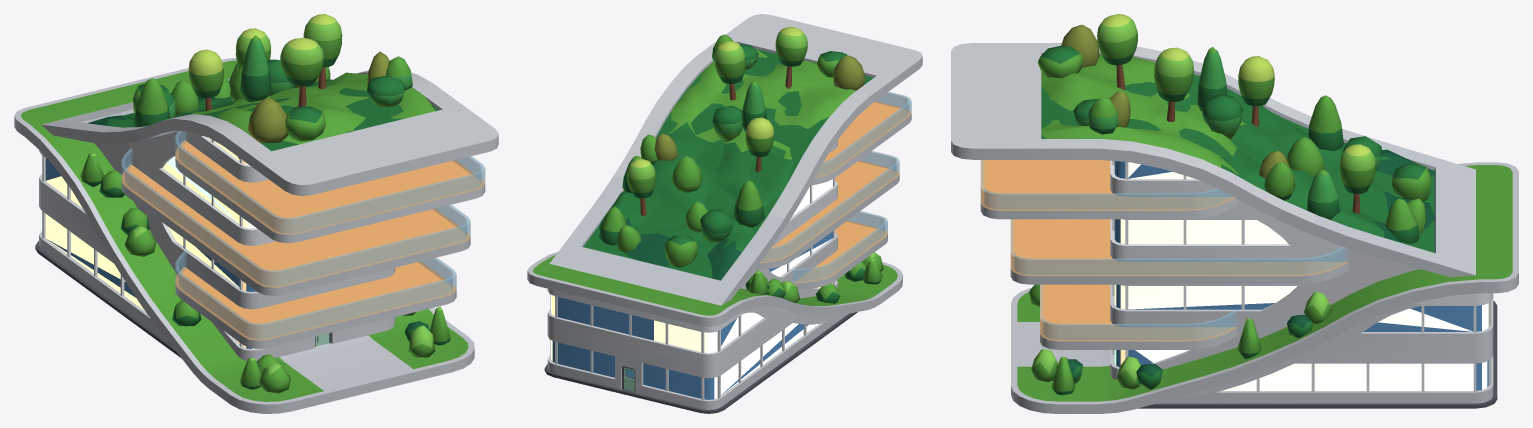
File: predio_eco_terracos_pacote.glb
The picture shows the model from 3 angles, left to right: view 1: azimuth 30°, elevation 25°; view 2: azimuth 150°, elevation 25°; view 3: azimuth 270°, elevation 25°; orthographic projection. The views are drawn at different scales.
Parts seen in each view (by area): view 1: predio_eco_terracos_pacote; view 2: predio_eco_terracos_pacote; view 3: predio_eco_terracos_pacote.
Part boxes in pixels (left/top/right/bottom): predio_eco_terracos_pacote: left=14, top=14, right=498, bottom=413; predio_eco_terracos_pacote: left=527, top=14, right=922, bottom=413; predio_eco_terracos_pacote: left=951, top=14, right=1518, bottom=413.
Bounding box in the file's own units: 13.99 × 17.89 × 28.
7 materials, 1 textured.
